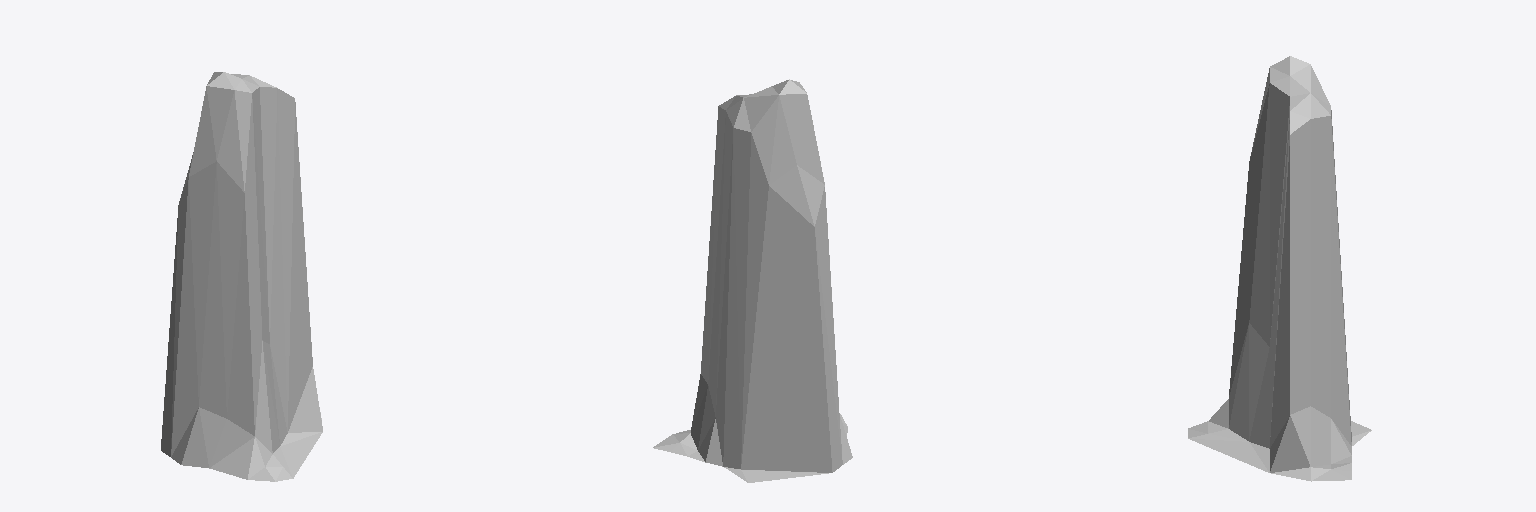
File: tree_68.obj
3 views of the same model, side by side, from view 1: azimuth 30°, elevation 25°; view 2: azimuth 150°, elevation 25°; view 3: azimuth 270°, elevation 25° (orthographic).
Visible parts, largest first — view 1: tree_68_minus_dtm; view 2: tree_68_minus_dtm; view 3: tree_68_minus_dtm.
Part boxes in pixels (x1,y1,x2,y2): tree_68_minus_dtm: (161, 72, 322, 481); tree_68_minus_dtm: (653, 79, 852, 482); tree_68_minus_dtm: (1188, 56, 1371, 481).
Size of the model in its own units: 9 by 20.12 by 9.